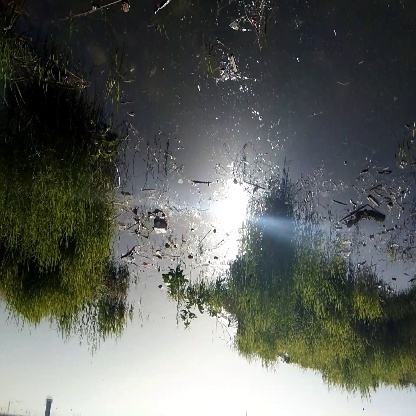plastic-garbage: (150, 213, 172, 239)
